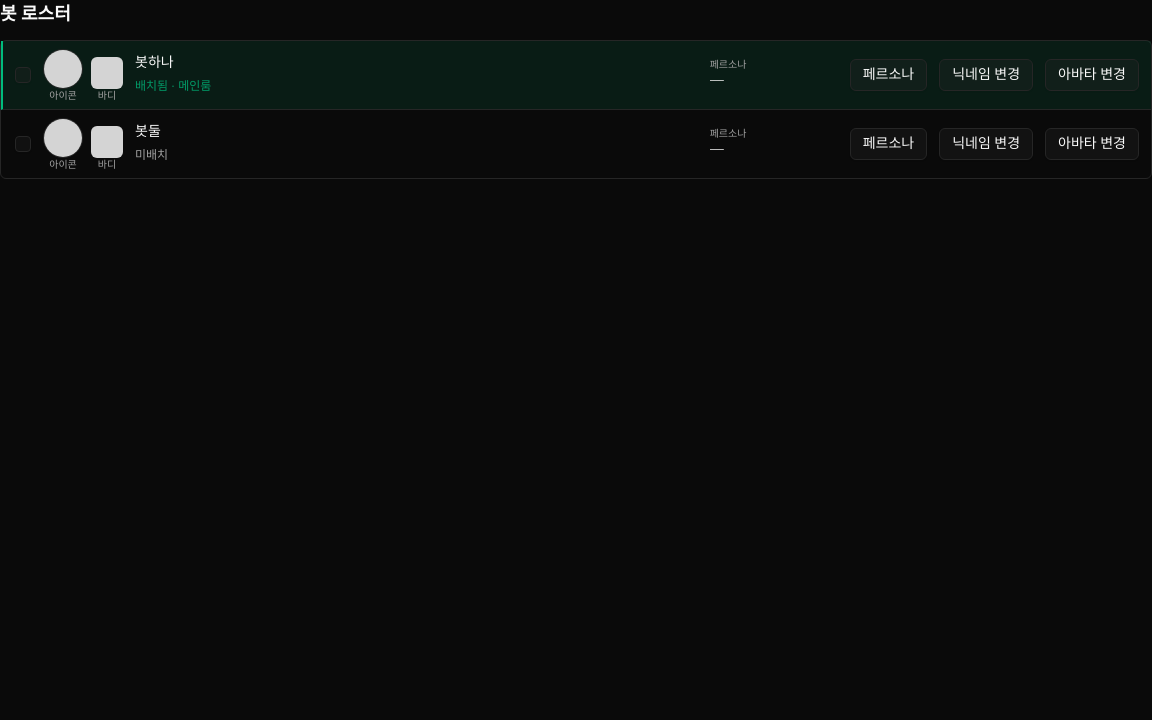
it: BotRoster › 일괄 변경 버튼 → distribute 다이얼로그 오픈
The width and height of the screenshot is (1152, 720).
expect the text "봇하나" is shown: met, box [135,55,174,70]
Click the checkbox named "봇하나 선택": (23, 75) [15,67,31,83]
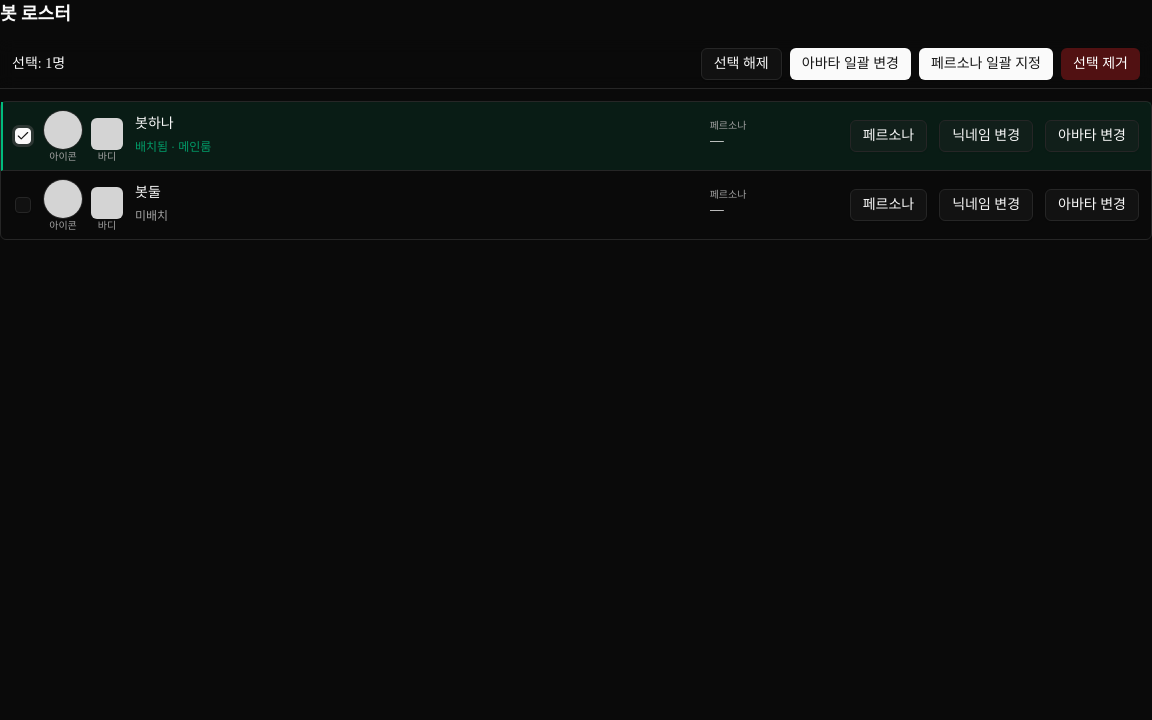
Click the button "아바타 일괄 변경": (850, 64) [790,48,911,80]
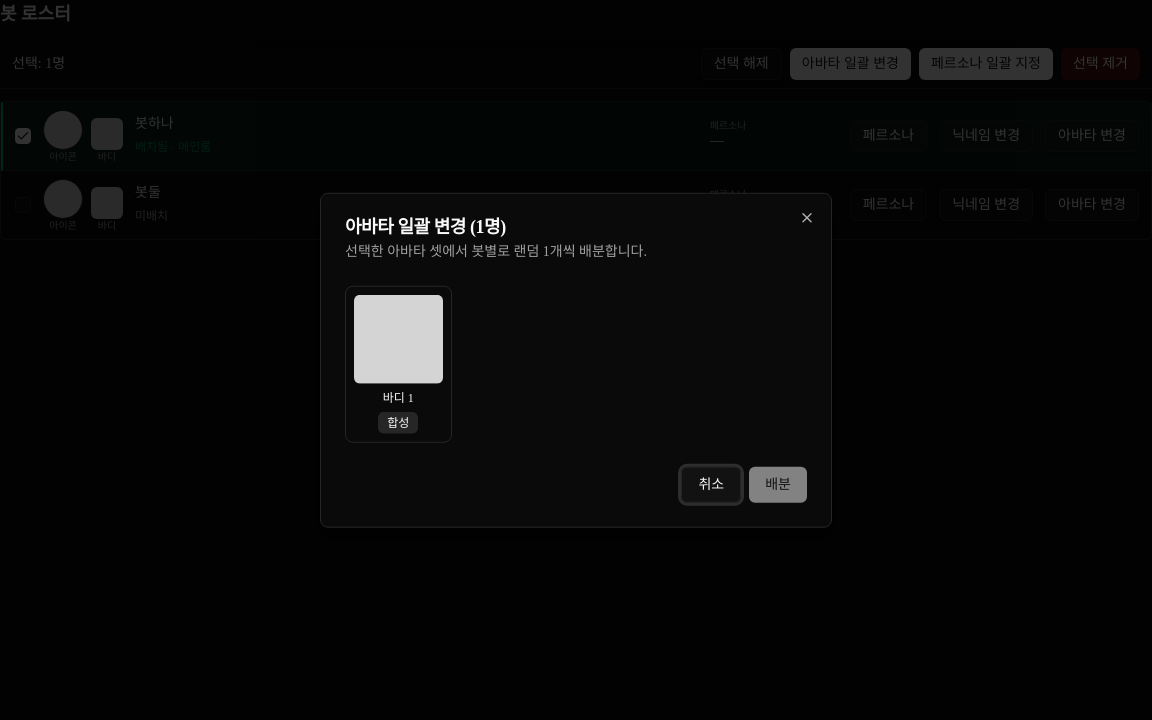
expect the heading "아바타 일괄 변경 (1명)" is shown: met, box [345,217,506,237]
